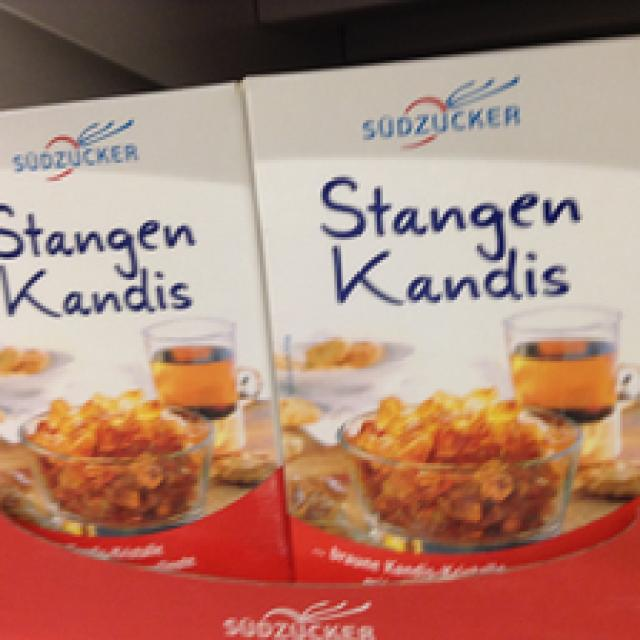groceries: (240, 28, 637, 586), (0, 80, 291, 577)
